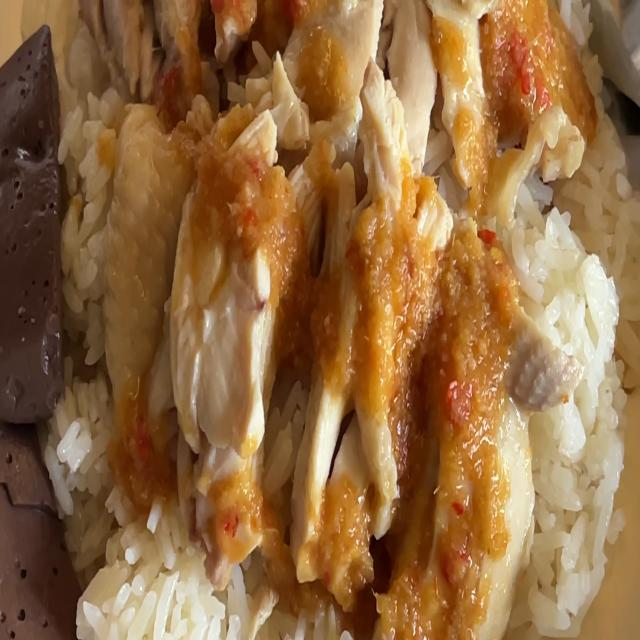chicken_rice: (102, 0, 559, 585)
noodle: (0, 17, 70, 420), (0, 410, 77, 640)
